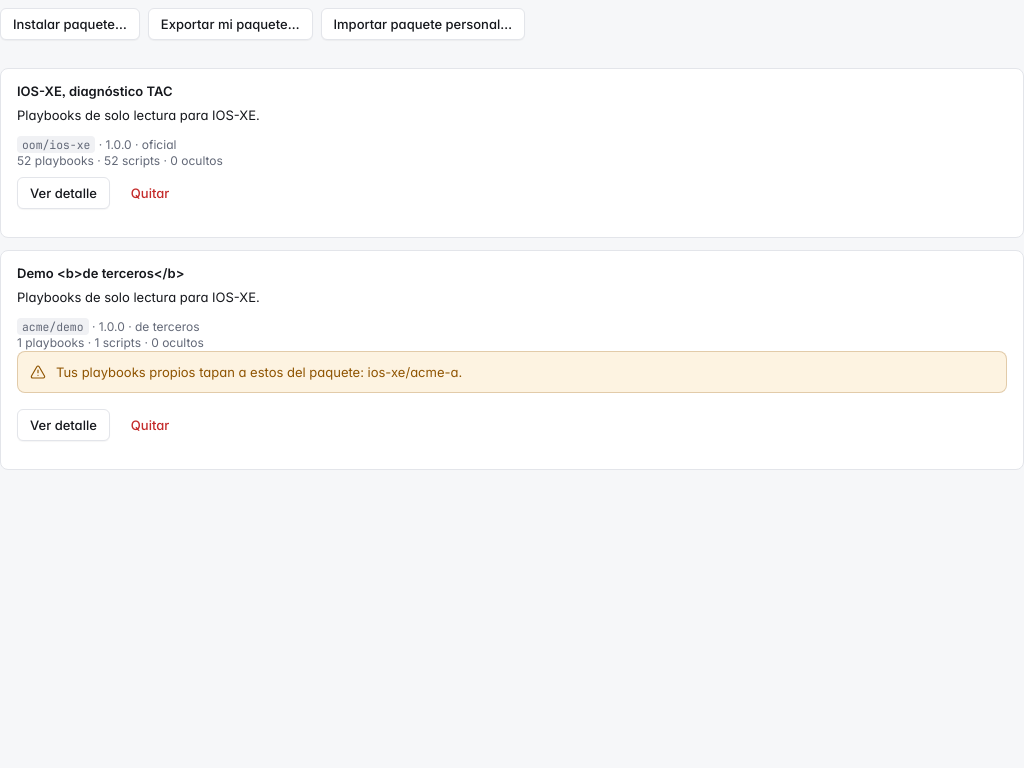
Test: un playbook tapado no se puede ocultar
The width and height of the screenshot is (1024, 768).
What coordinates should you click on to do the following:
click the button "Ver detalle" below "IOS-XE, diagnóstico TAC"
I would click on:
 (63, 193)
Its box is [17,177,110,209].
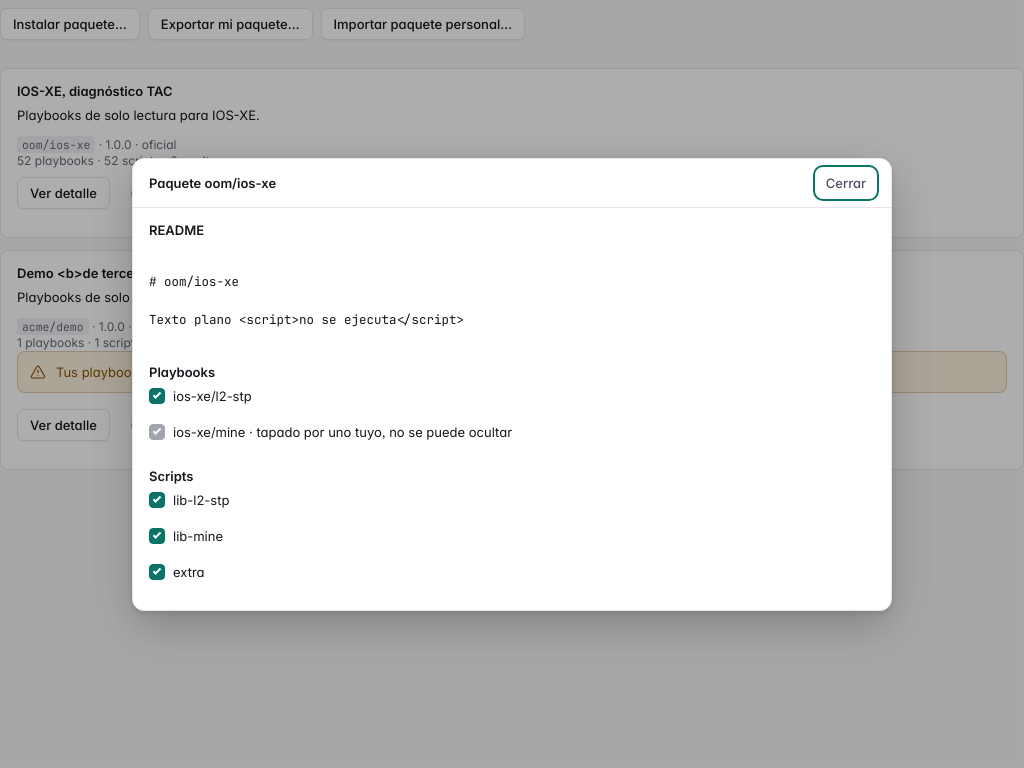
Now the checkbox labelled "ios-xe/mine · tapado por uno tuyo, no se puede ocultar" is disabled, box [149,424,165,440]
